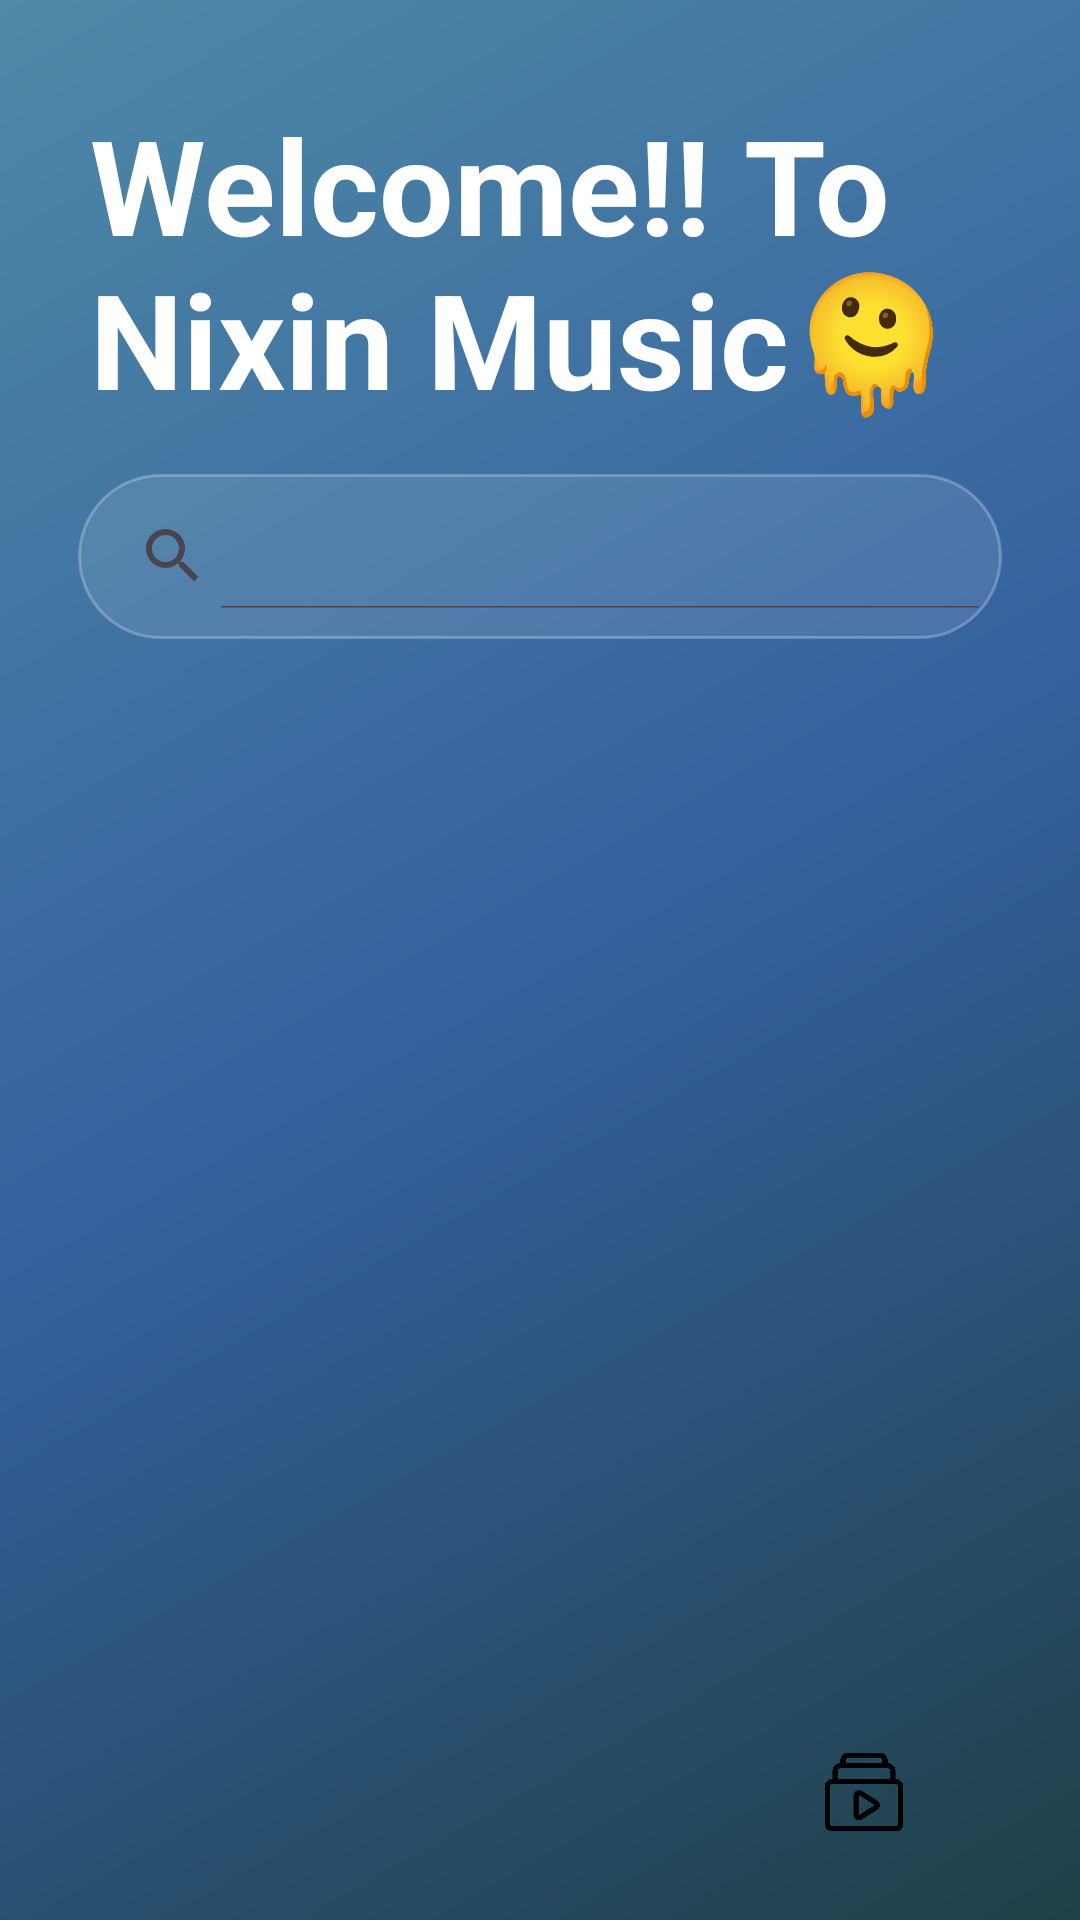

Icon bounding boxes for this 1080×1920 phone screenshot, format (x1, y1, x2, y2):
playlist: (825, 1753, 903, 1831)
